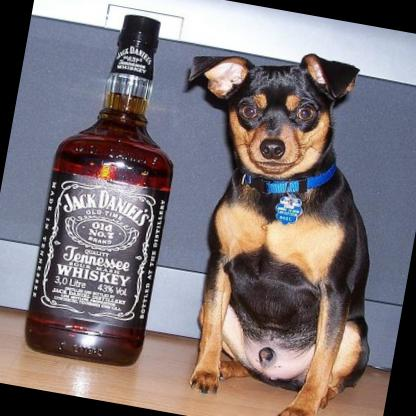miniature_pinscher: (129, 32, 416, 416)
